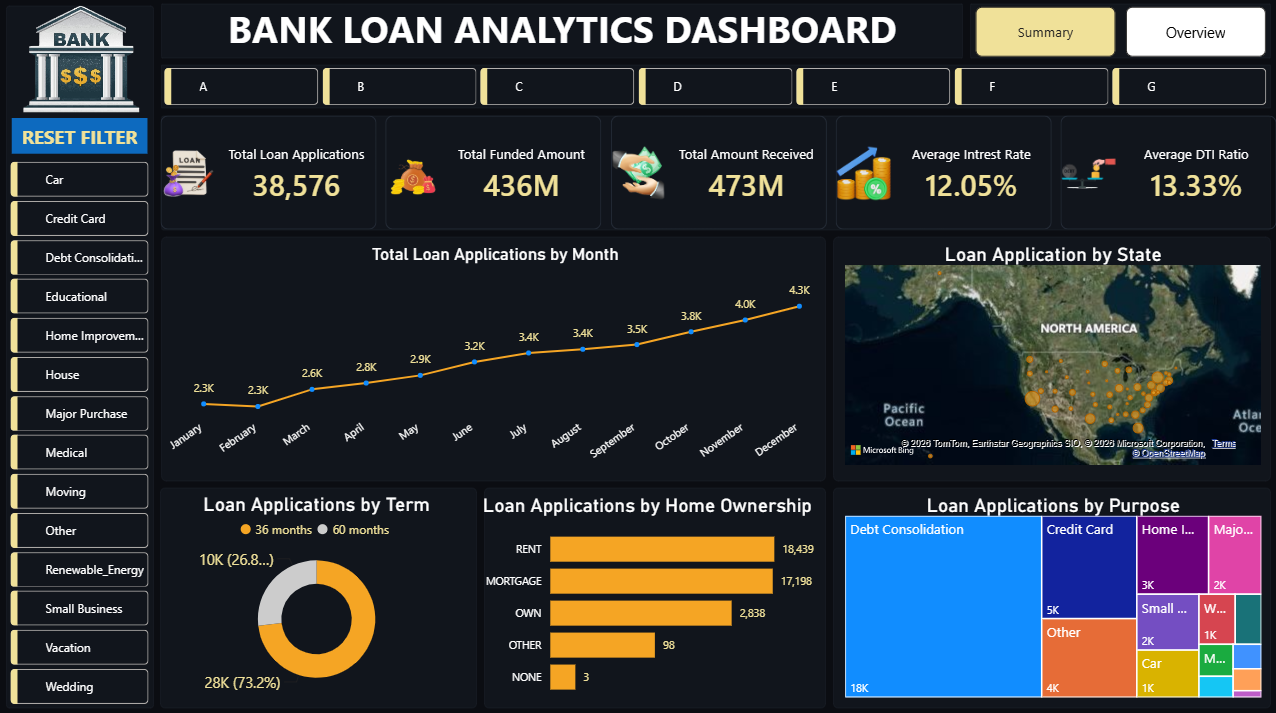

What the dashboard file says about the page in this screenshot:
{"tool":"powerbi","page":{"name":"Overview","canvas":[1280,720],"ordinal":1},"visuals":[{"type":"cardVisual","fields":{"Data":["financial_loan.Total Loan Applications","financial_loan.Total Funded Amount","financial_loan.Total Amount Received","financial_loan.Average Intrest Rate","financial_loan.Average DTI Rate"]},"box":[163,118,1117,114],"z":0},{"type":"image","box":[1.4,5.7,164.3,108.6],"z":1000},{"type":"advancedSlicerVisual","fields":{"Values":["financial_loan.PURPOSE"]},"box":[12.9,164.3,138.6,544.3],"z":2000},{"type":"advancedSlicerVisual","fields":{"Values":["financial_loan.GRADE"]},"box":[165.7,70,1102.9,37.1],"z":3000},{"type":"actionButton","box":[14.3,120,135.7,35.7],"z":4000},{"type":"textbox","box":[138.6,0,851.4,68.6],"z":5000},{"type":"pageNavigator","box":[977.5,9.2,290.8,50],"z":6000},{"type":"lineChart","fields":{"Category":["financial_loan.ISSUE_DATE.Variation.Date Hierarchy.Month"],"Y":["financial_loan.Total Loan Applications"]},"box":[166,246,662,226],"z":7000},{"type":"donutChart","title":"Loan Applications by Term","fields":{"Category":["financial_loan.TERM"],"Y":["financial_loan.Total Loan Applications"]},"box":[167.5,495,302.5,207.5],"z":8000},{"type":"clusteredBarChart","title":"Loan Applications by Home Ownership","fields":{"Category":["financial_loan.HOME_OWNERSHIP"],"Y":["financial_loan.Total Loan Applications"]},"box":[478,496,344,214],"z":9000},{"type":"treemap","title":"Loan Applications by Purpose","fields":{"Group":["financial_loan.PURPOSE"],"Values":["financial_loan.Total Loan Applications"]},"box":[842,496,426,208],"z":10000},{"type":"map","title":"Loan Application by State","fields":{"Category":["financial_loan.ADDRESS_STATE"],"Size":["financial_loan.Total Loan Applications"]},"box":[842.2,245.6,425.6,226.7],"z":10001}]}

Visuals, with their boxes in screenshot pixels (x1, y1, x2, y2), scaled from the page's 1280x720 canvas onto the 1276x713 screenshot:
cardVisual - financial_loan.Total Loan Applications x financial_loan.Total Funded Amount: 162/117/1275/230
image: 1/6/165/113
advancedSlicerVisual - financial_loan.PURPOSE: 13/163/151/702
advancedSlicerVisual - financial_loan.GRADE: 165/69/1265/106
actionButton: 14/119/150/154
textbox: 138/0/987/68
pageNavigator: 974/9/1264/59
lineChart - financial_loan.ISSUE_DATE.Variation.Date Hierarchy.Month x financial_loan.Total Loan Applications: 165/244/825/467
"Loan Applications by Term" donutChart: 167/490/469/696
"Loan Applications by Home Ownership" clusteredBarChart: 477/491/819/703
"Loan Applications by Purpose" treemap: 839/491/1264/697
"Loan Application by State" map: 840/243/1264/468
